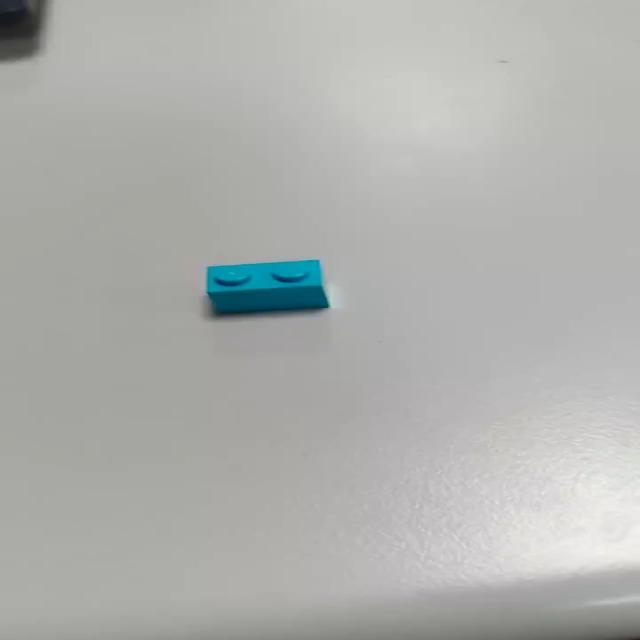C2x1x1: (204, 258, 330, 314)
